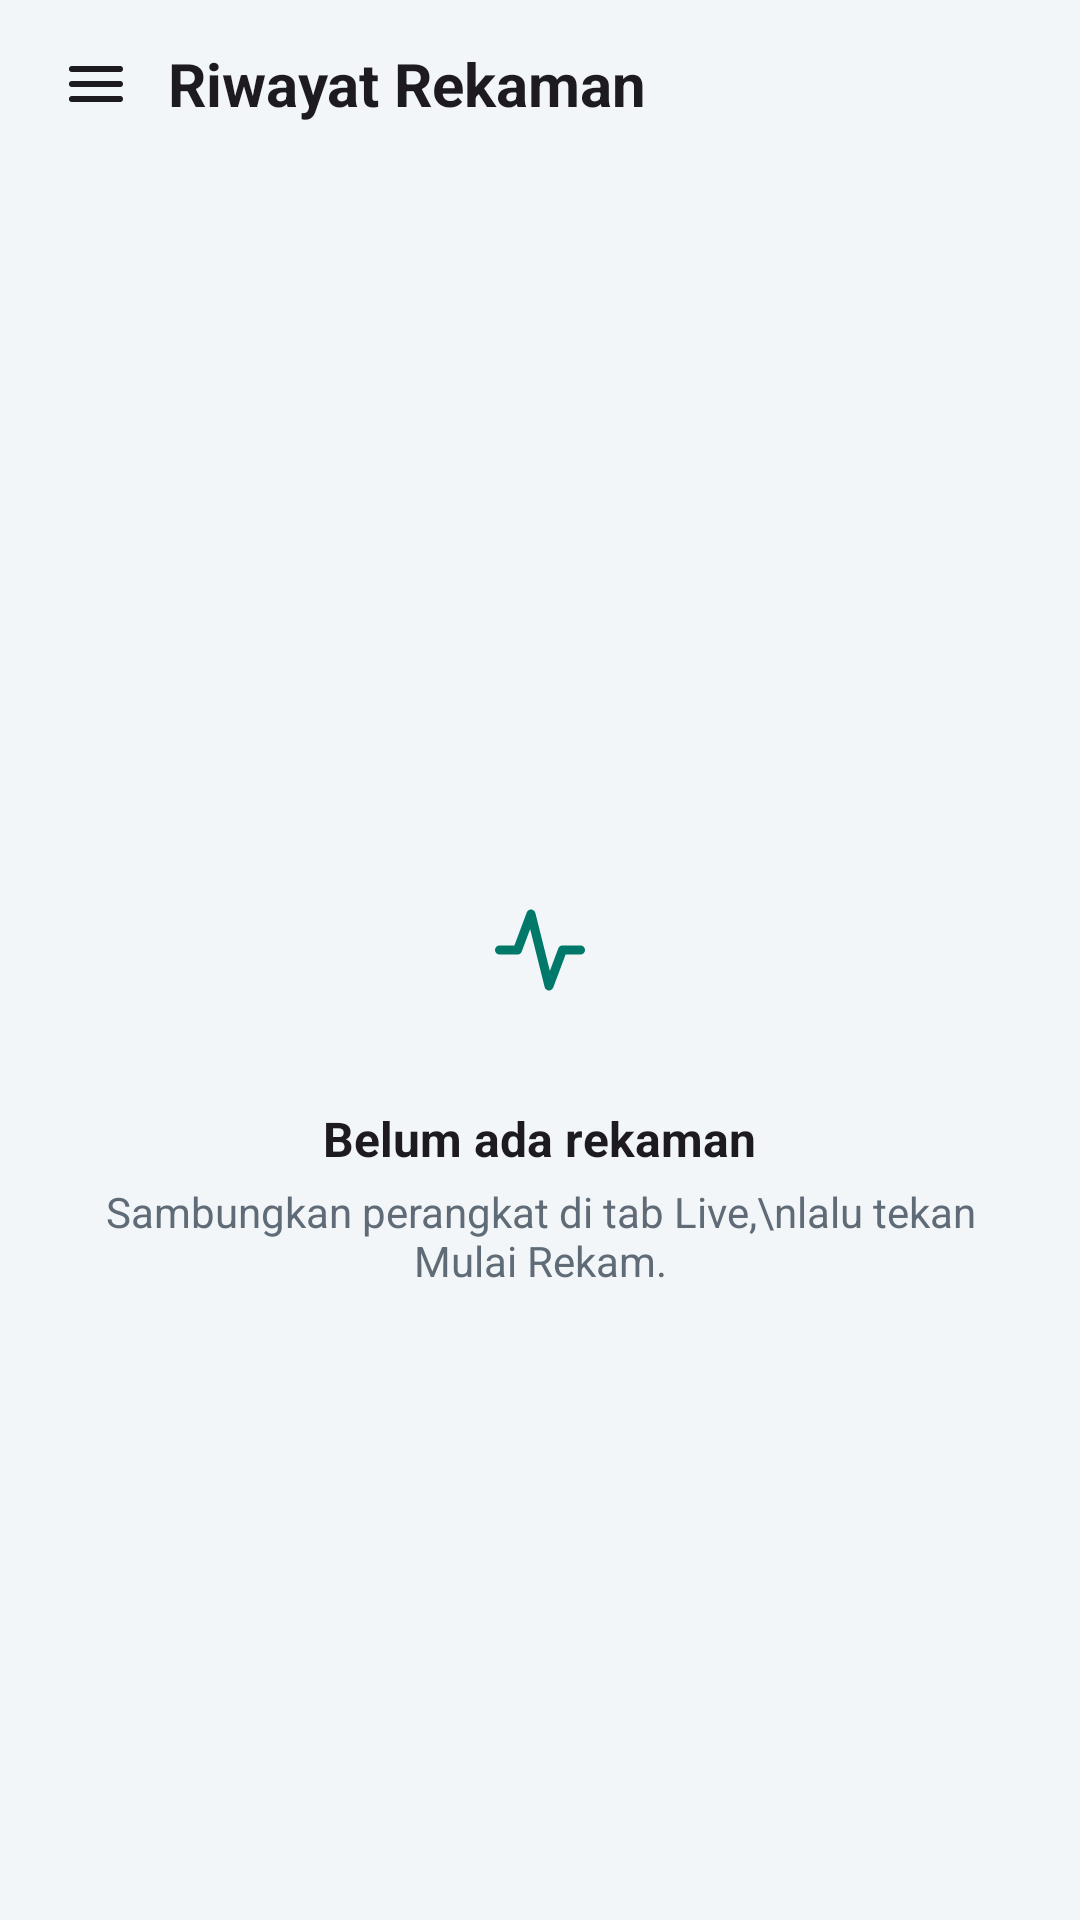

Icon bounding boxes for this 1080w x 1920h phone screenshot, format (x1, y1, x2, y2):
pulse: (495, 909, 585, 991)
